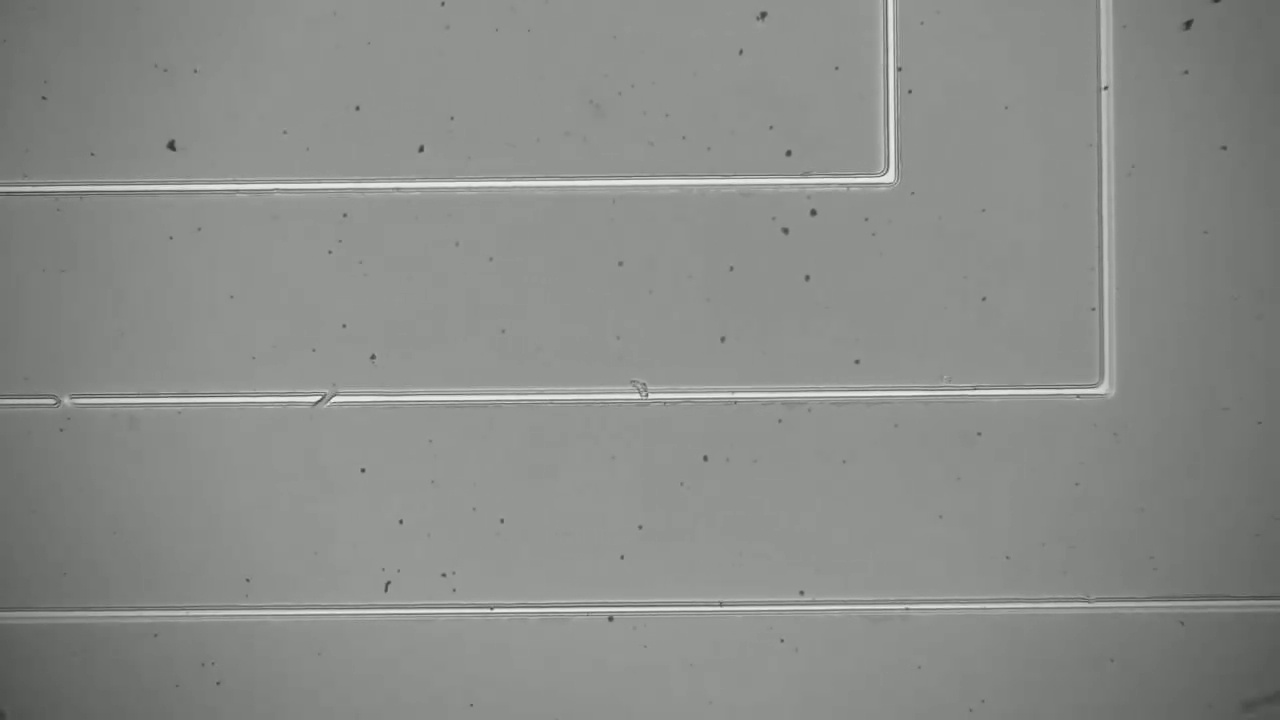open: (41, 380, 86, 425), (302, 379, 343, 423)
stains_enbedded: (624, 369, 660, 413)
